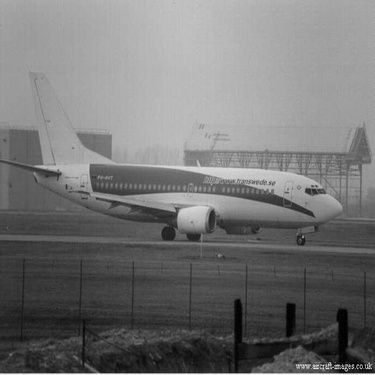airplane: (3, 59, 352, 255)
